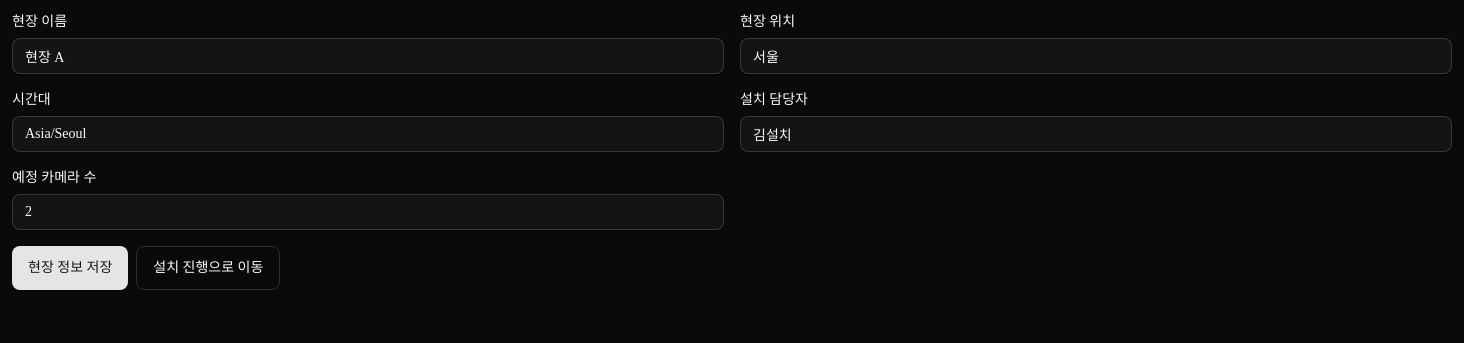
Test: SiteSetupForm › explains revision conflicts
What coordinates should you click on to do the following:
click the button "현장 정보 저장"
I would click on:
 (70, 268)
Its box is 12,246 -> 128,290.
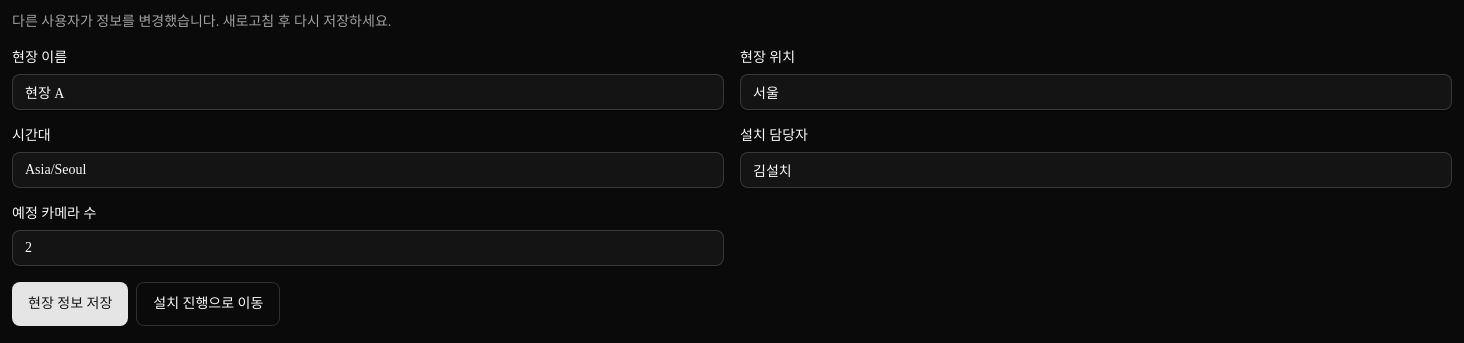
Expected: the message shows "다른 사용자가 정보를 변경했습니다", 12,14 -> 391,29
